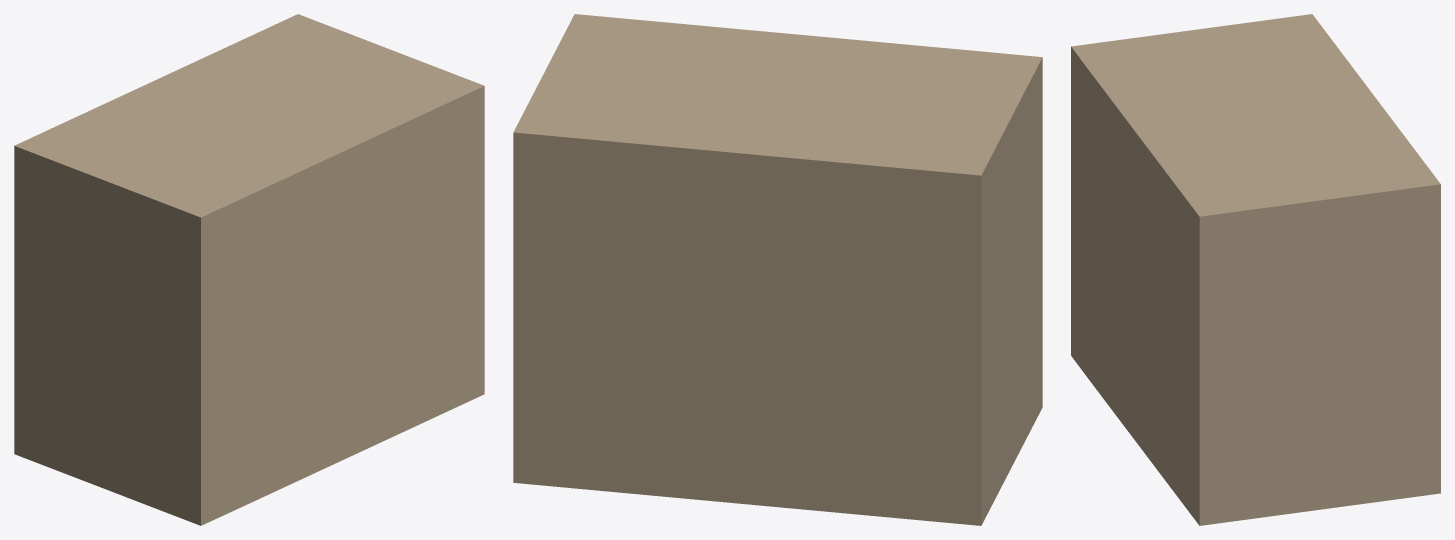
File: bld_108162183.dae
3 views of the same model, side by side, from view 1: azimuth 30°, elevation 25°; view 2: azimuth 150°, elevation 25°; view 3: azimuth 270°, elevation 25° (orthographic). The views are drawn at different scales.
Visible parts, largest first — view 1: bld_108162183; view 2: bld_108162183; view 3: bld_108162183.
Part boxes in pixels (x1,y1,x2,y2): bld_108162183: (14, 14, 484, 525); bld_108162183: (513, 14, 1042, 525); bld_108162183: (1071, 14, 1440, 525).
Size of the model in its own units: 11.25 by 8.67 by 8.
